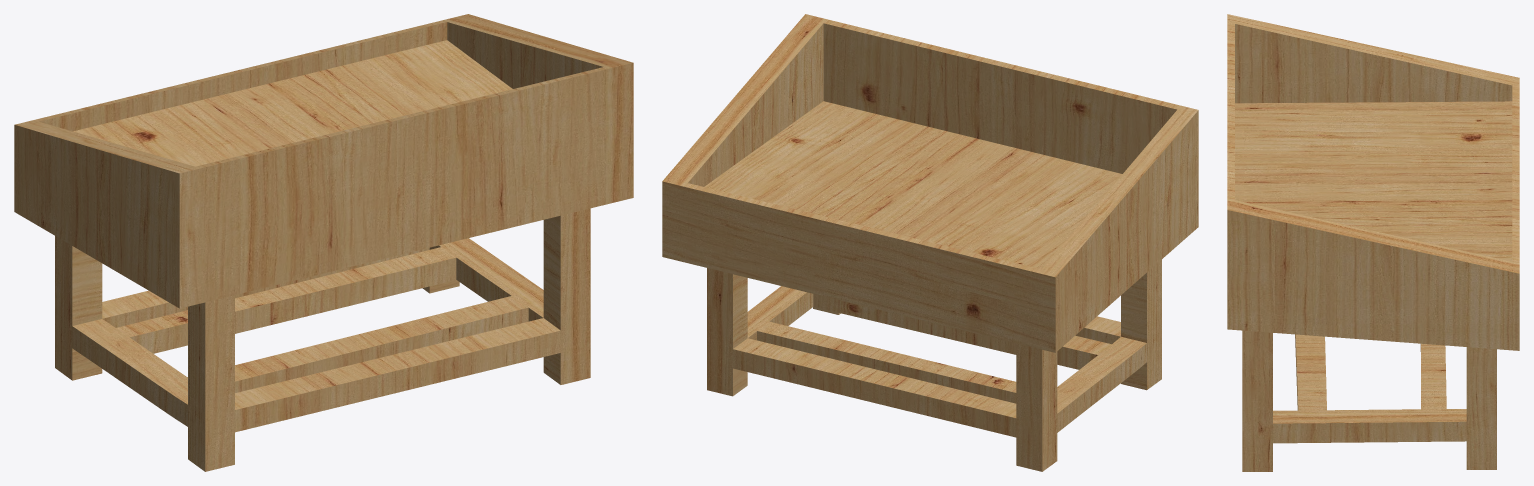
The model's file is display stall.fbx.
3 renders of one model, left to right at view 1: azimuth 30°, elevation 25°; view 2: azimuth 150°, elevation 25°; view 3: azimuth 270°, elevation 25°, orthographic. The views are drawn at different scales.
Parts seen in each view (by area): view 1: pCube13, pCube17; view 2: pCube13, pCube17; view 3: pCube13, pCube17.
Boxes of the visible parts, x1=… form: pCube13: x1=14, y1=14, x2=633, y2=308; pCube17: x1=55, y1=208, x2=590, y2=471; pCube13: x1=662, y1=14, x2=1198, y2=352; pCube17: x1=707, y1=259, x2=1161, y2=471; pCube13: x1=1227, y1=14, x2=1519, y2=350; pCube17: x1=1242, y1=330, x2=1496, y2=471.
Bounding box in the file's own units: 12.31 × 8.11 × 7.76.
Materials: 1 (1 with a texture image).
